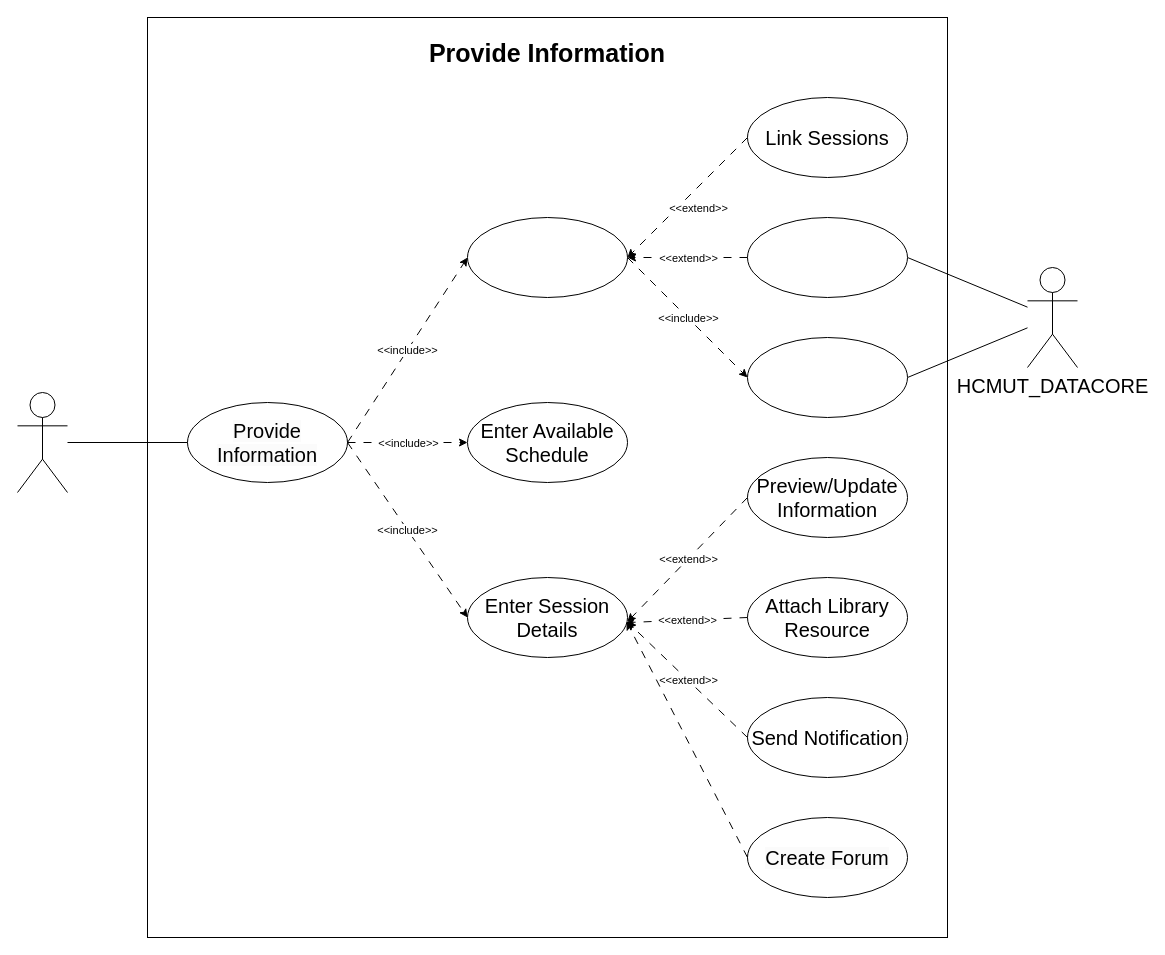
This 1165x955 diagram has some shape labels left out. Here are the shapes that lost their labels. From the top down, the box of each, then its label:
(466, 216, 628, 298): Enter Profile Details
(746, 216, 908, 298): Write Description
(746, 336, 908, 418): Teach Courses
(16, 392, 68, 492): Tutor
